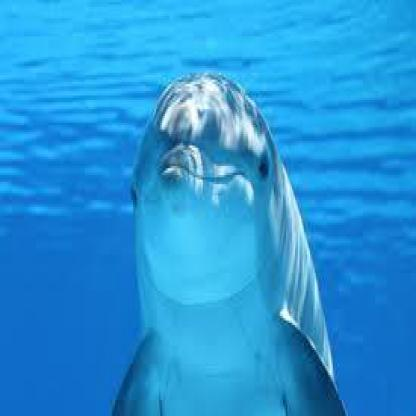dolphin: (110, 73, 348, 411)
